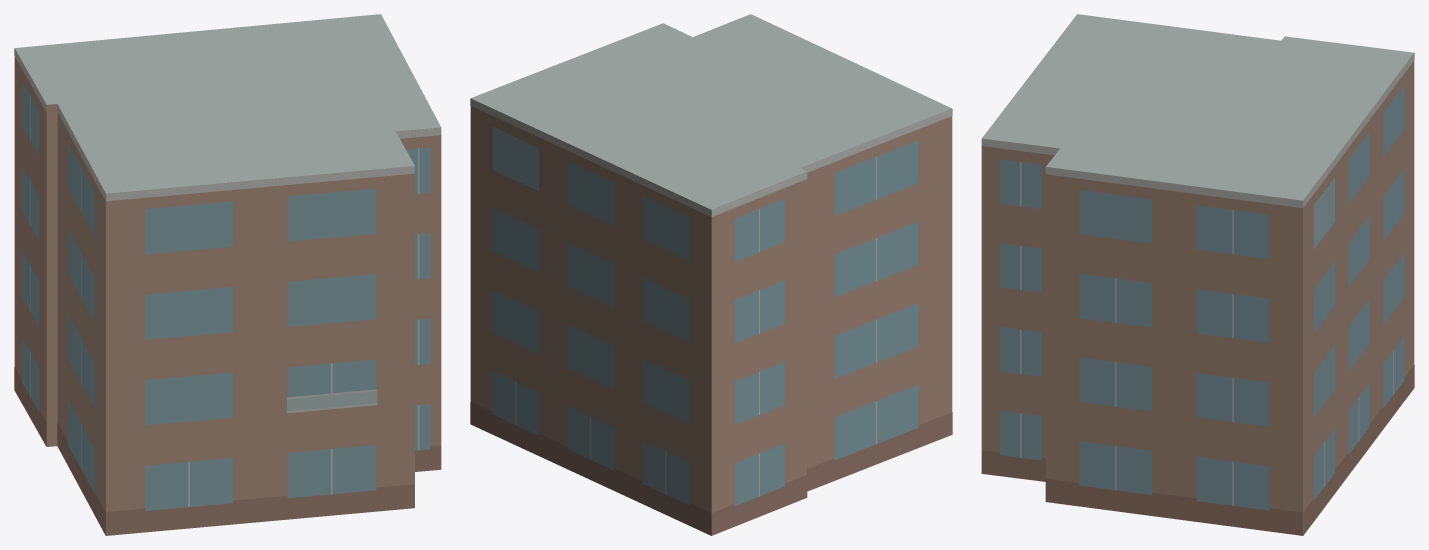
File: survey-upis-32873349.glb
The picture shows the model from 3 angles, left to right: view 1: azimuth 30°, elevation 25°; view 2: azimuth 150°, elevation 25°; view 3: azimuth 270°, elevation 25°; orthographic projection. The views are drawn at different scales.
Visible parts, largest first — view 1: survey-upis-32873349.tmp; view 2: survey-upis-32873349.tmp; view 3: survey-upis-32873349.tmp.
Part boxes in pixels (x1,y1,x2,y2): survey-upis-32873349.tmp: [14, 14, 441, 535]; survey-upis-32873349.tmp: [470, 14, 952, 535]; survey-upis-32873349.tmp: [981, 14, 1414, 535].
Bounding box in the file's own units: 13.03 × 10.9 × 12.76.
